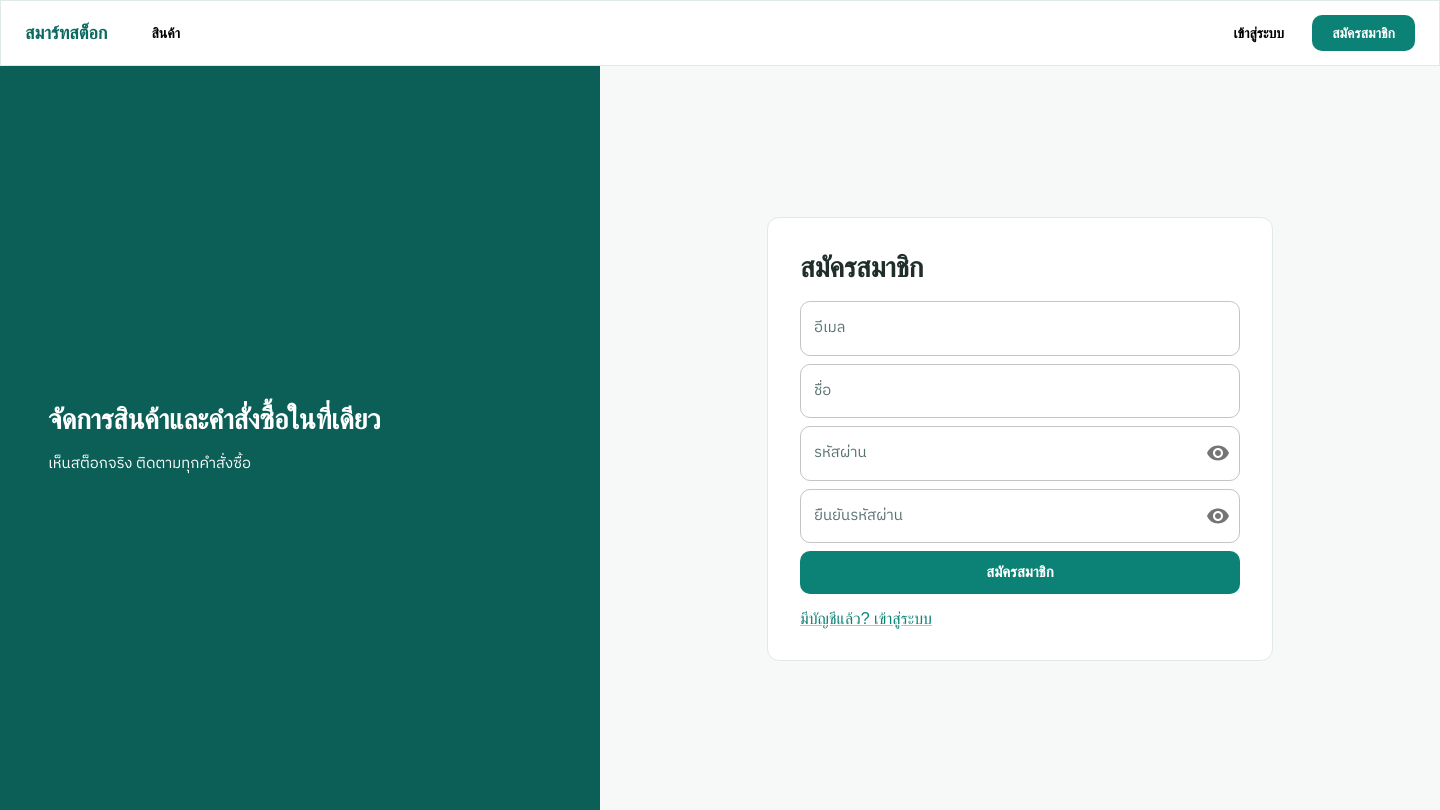
Scenario: shows EMAIL_EXISTS on the email field
Type "user@example.com" into the field labelled "อีเมล".
click(1020, 328); type("user@example.com")  # box [800,301,1240,356]
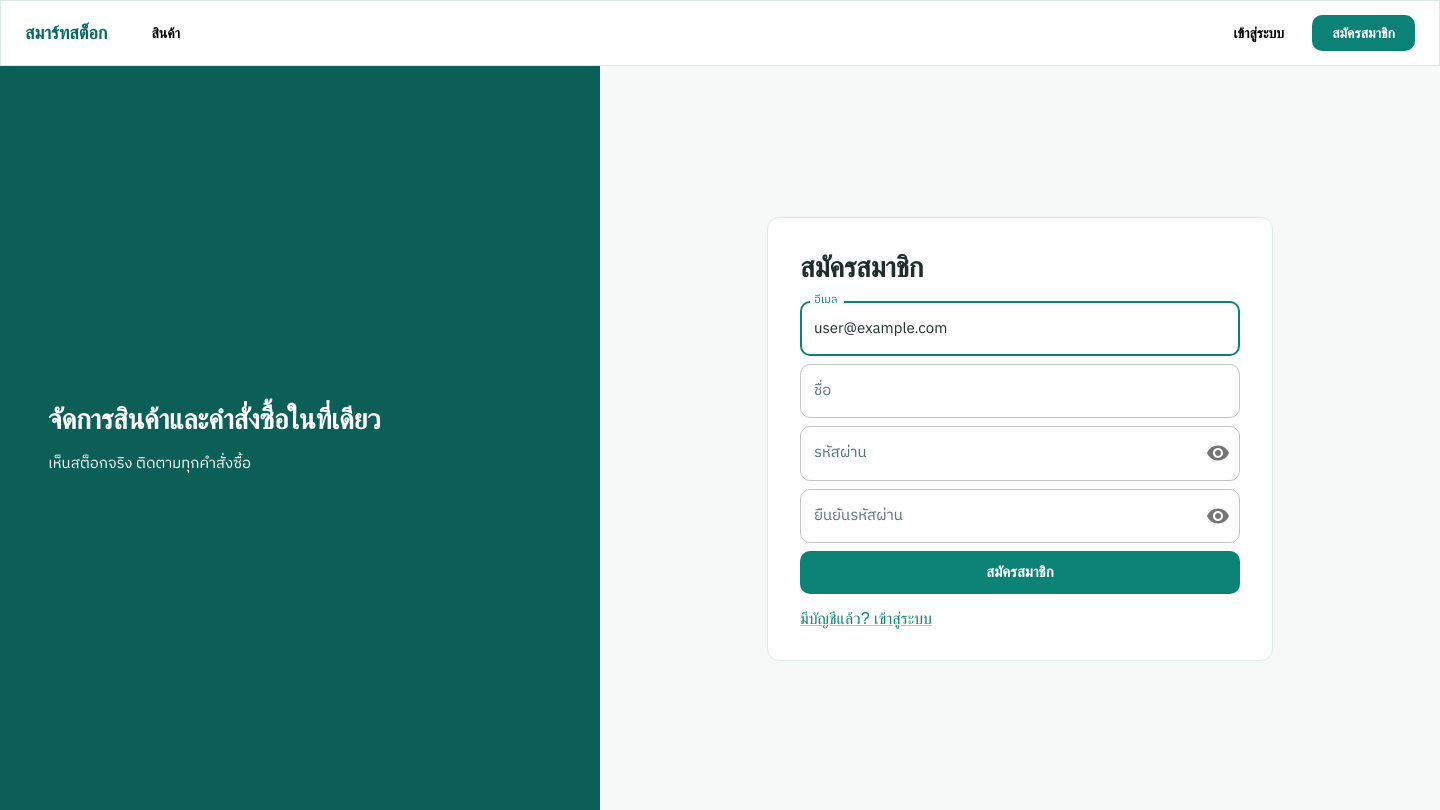
Type "X" into the field labelled "ชื่อ".
click(1020, 391); type("X")  # box [800,364,1240,418]
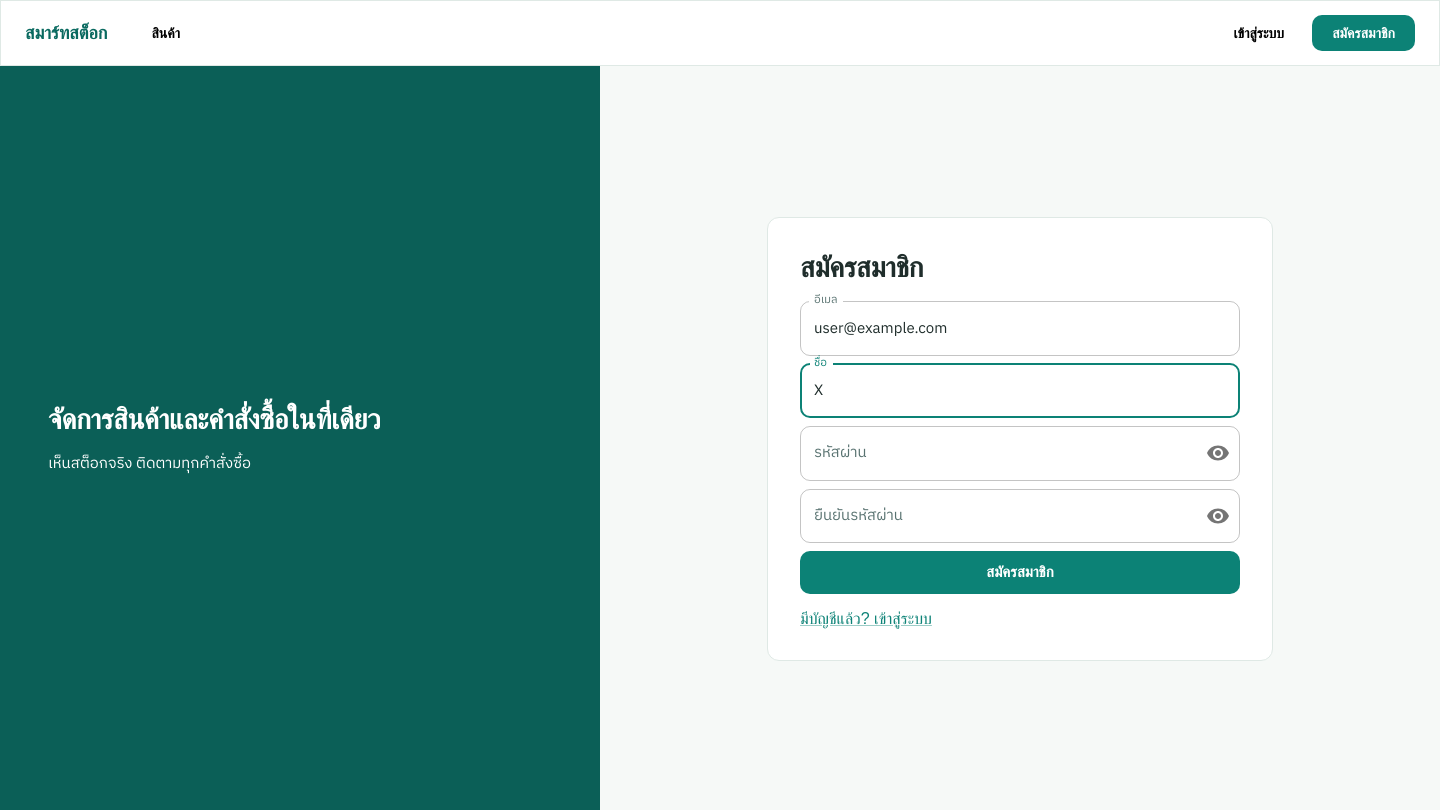
Type "Orange-Bicycle-77" into the password field labelled "รหัสผ่าน".
click(995, 454); type("Orange-Bicycle-77")  # box [800,426,1190,481]
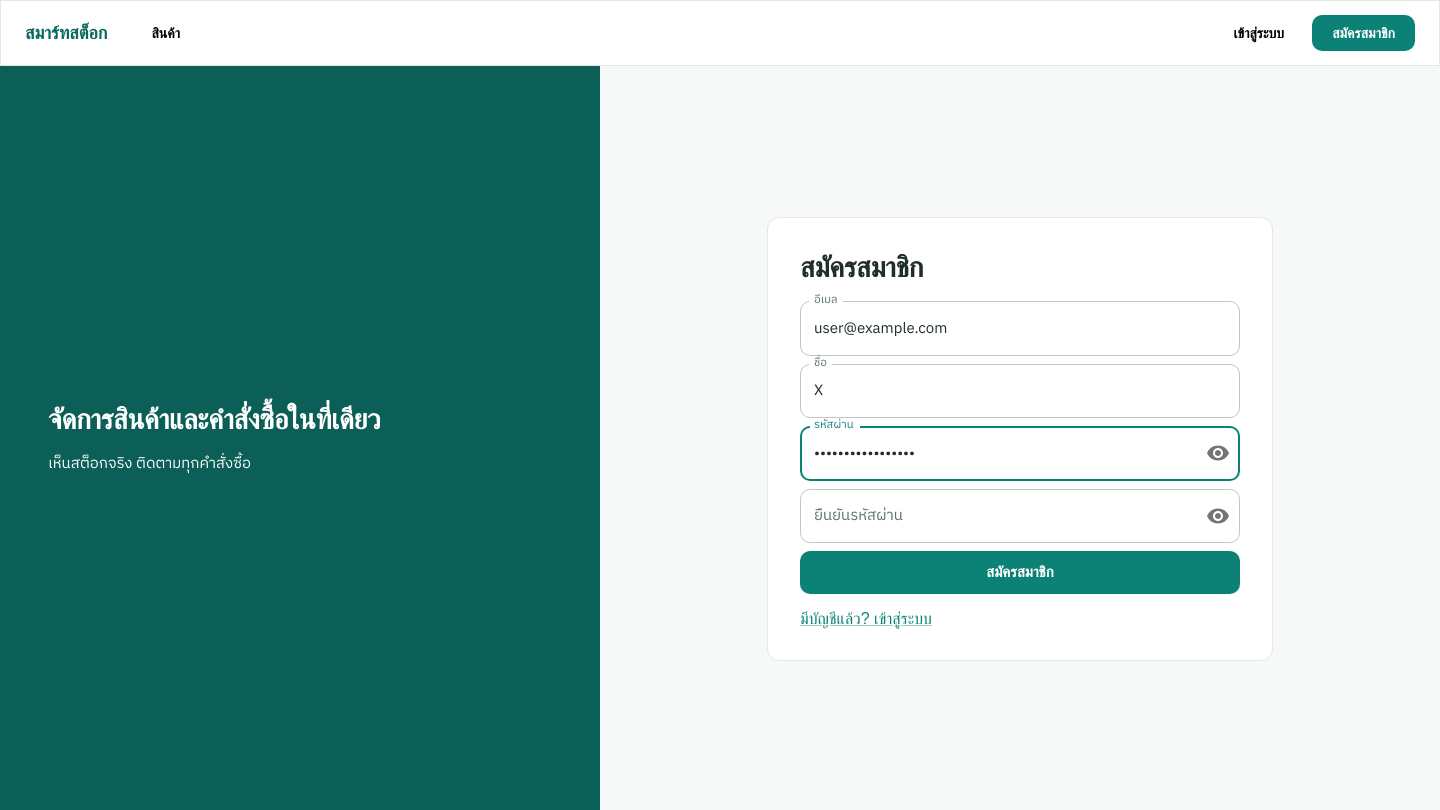
Type "Orange-Bicycle-77" into the password field labelled "ยืนยันรหัสผ่าน".
click(995, 516); type("Orange-Bicycle-77")  # box [800,489,1190,543]
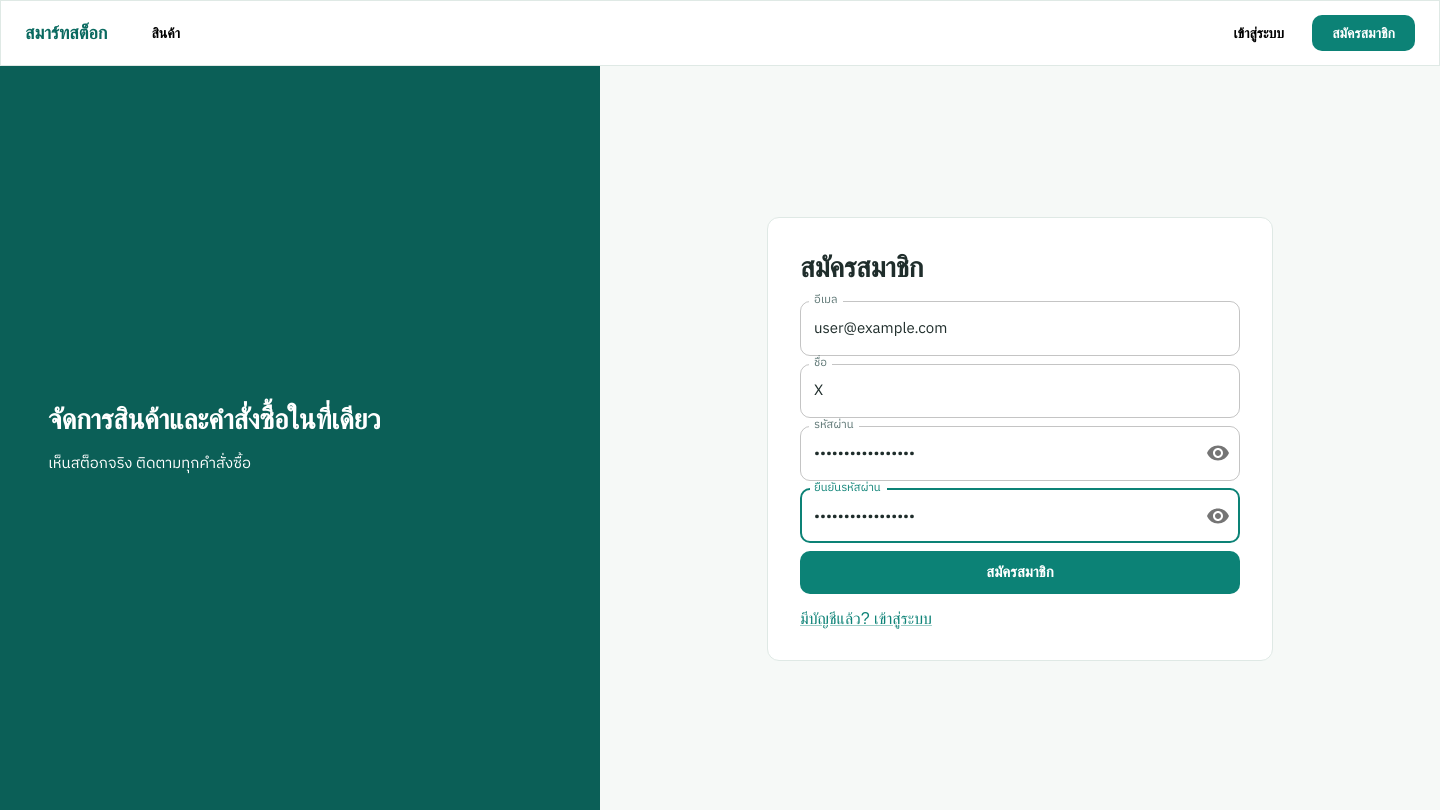
Click the button "สมัครสมาชิก".
click(1020, 572)  # box [800,551,1240,594]
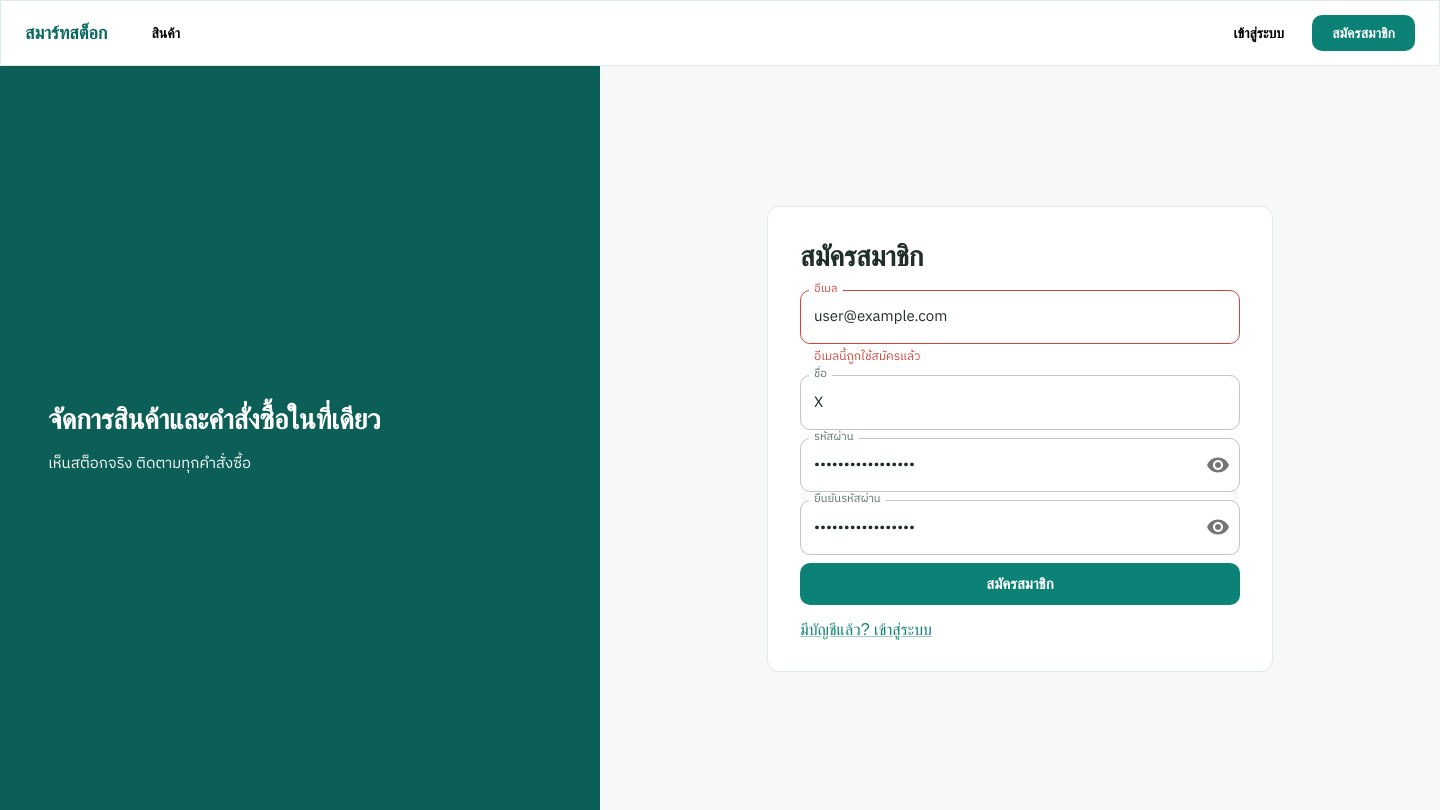
Expected: the text "อีเมลนี้ถูกใช้สมัครแล้ว" is shown, [814,347,920,366]
